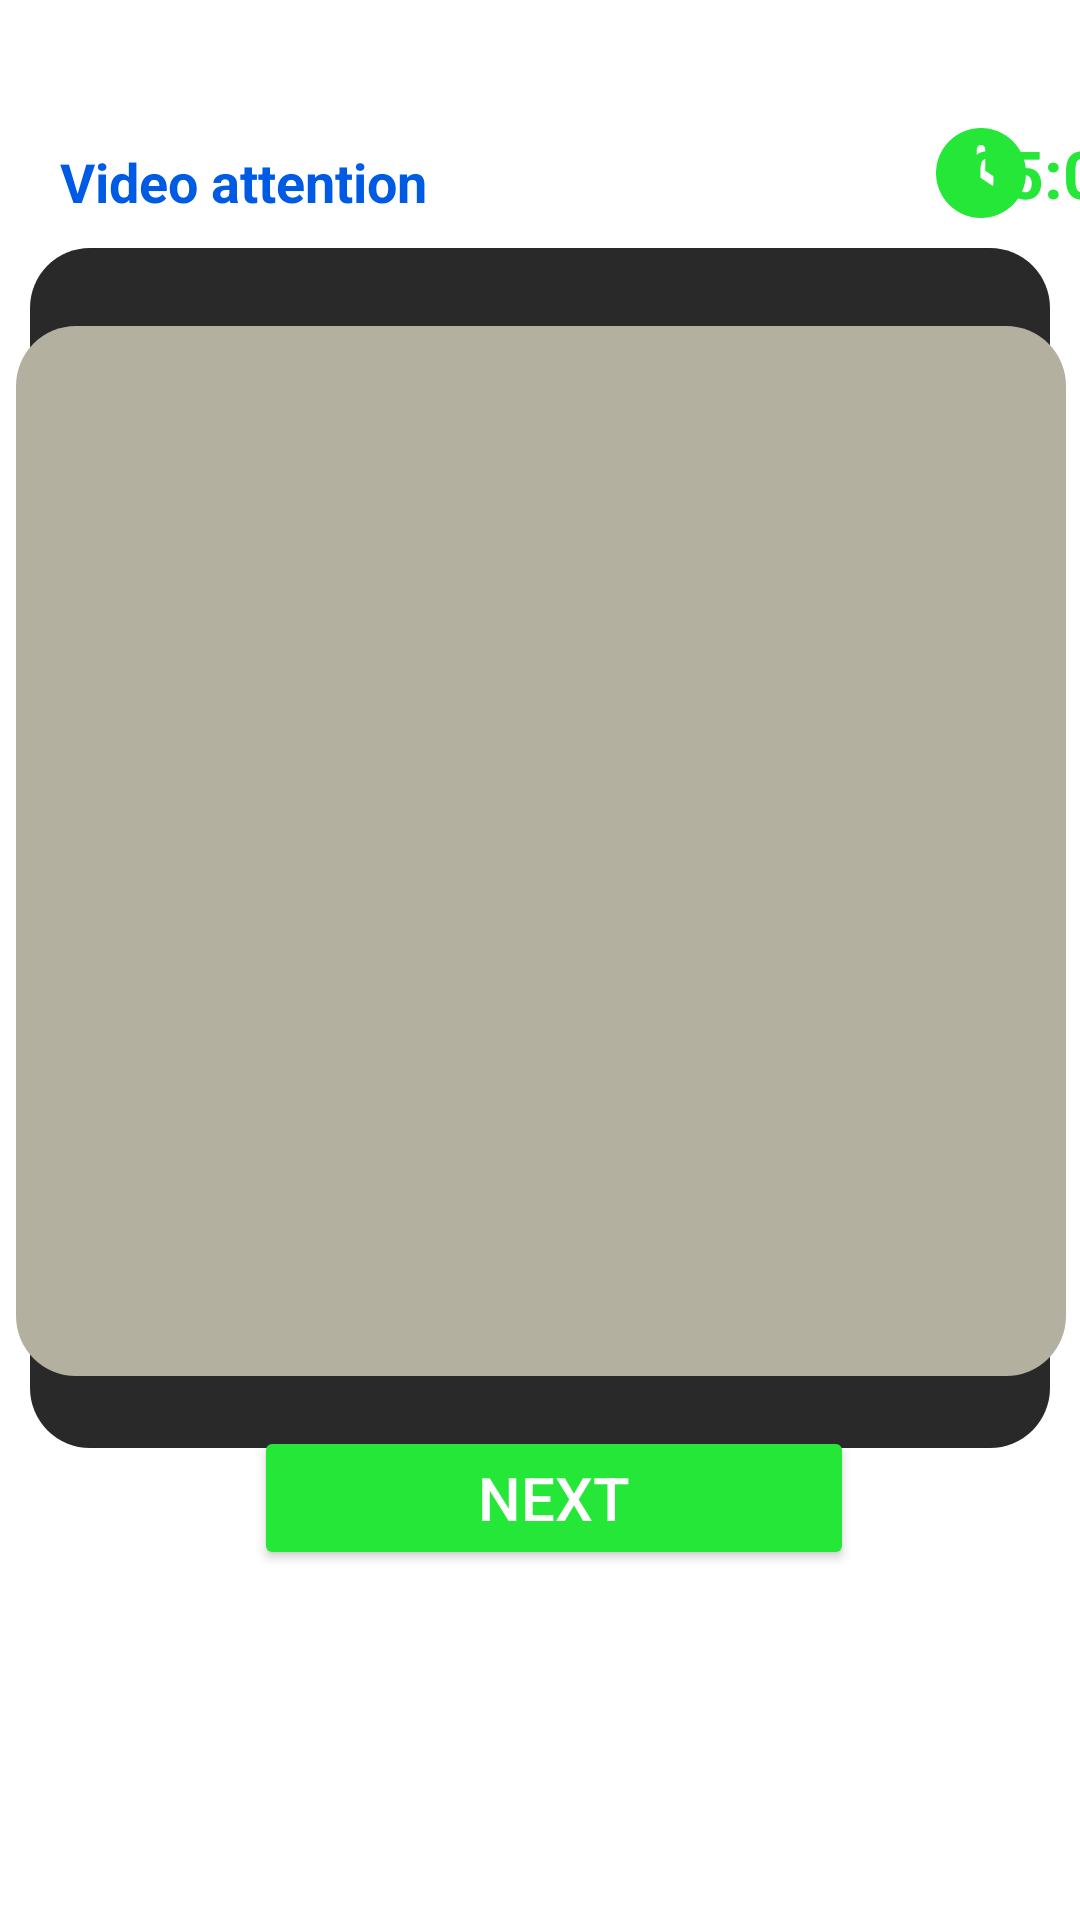

Icon bounding boxes for this 1080×1920 phone screenshot, format (x1, y1, x2, y2):
clock: (936, 128, 1026, 218)
